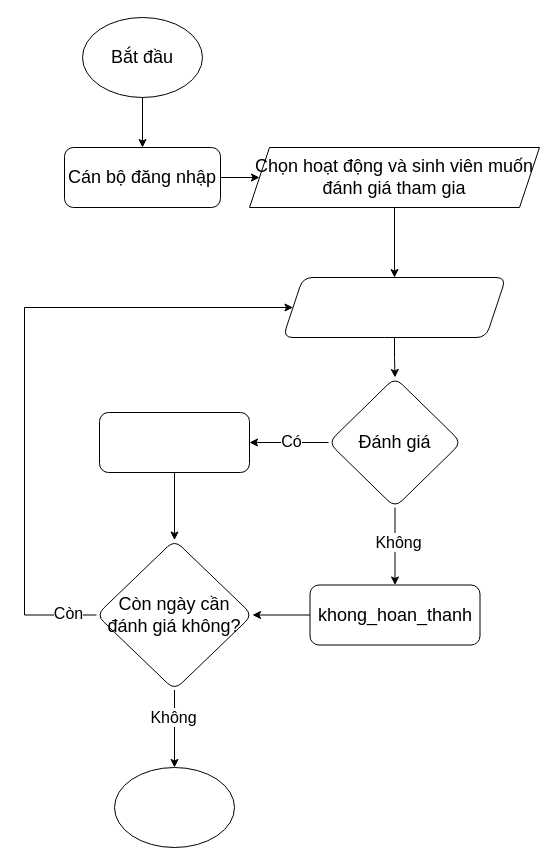
This 557x865 diagram has some shape labels left out. The shapes that lost their labels are listed below. From the top down, each one's box as (x1, y1, x2, y2) in pixels, then its label:
(282, 276, 506, 338): Kiểm tra sinh viên có hoàn thành không
(98, 412, 250, 472): hoan_thanh
(114, 766, 234, 848): Kết thúc
